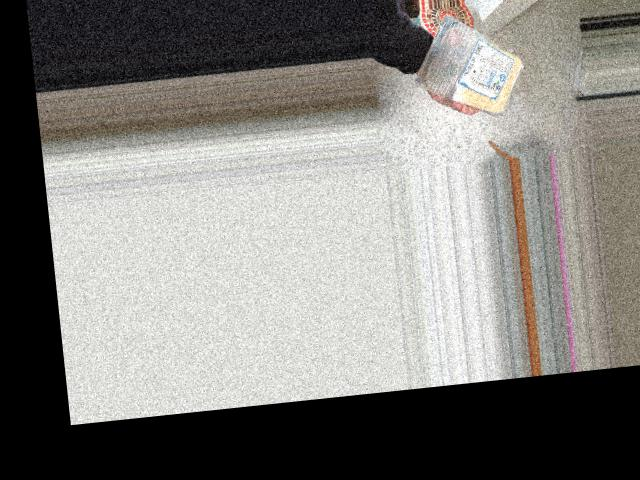cheese: (420, 16, 531, 115)
